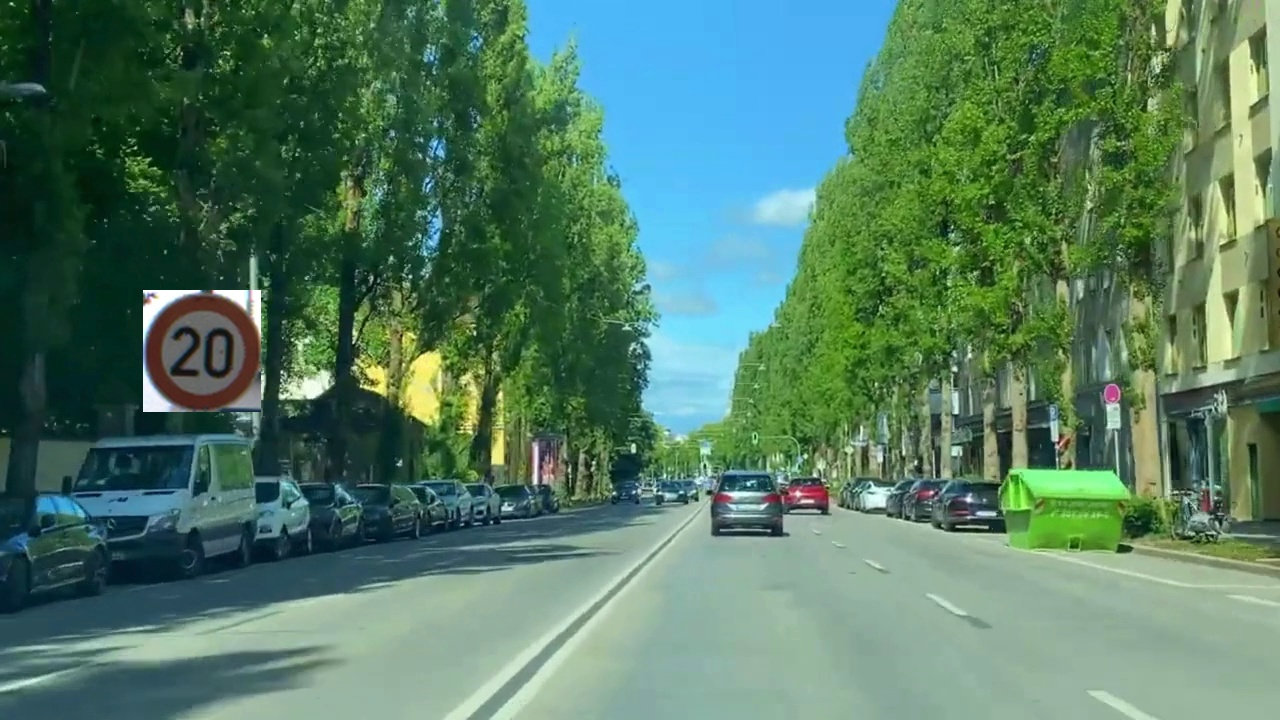Speed 20: (143, 290, 261, 412)
